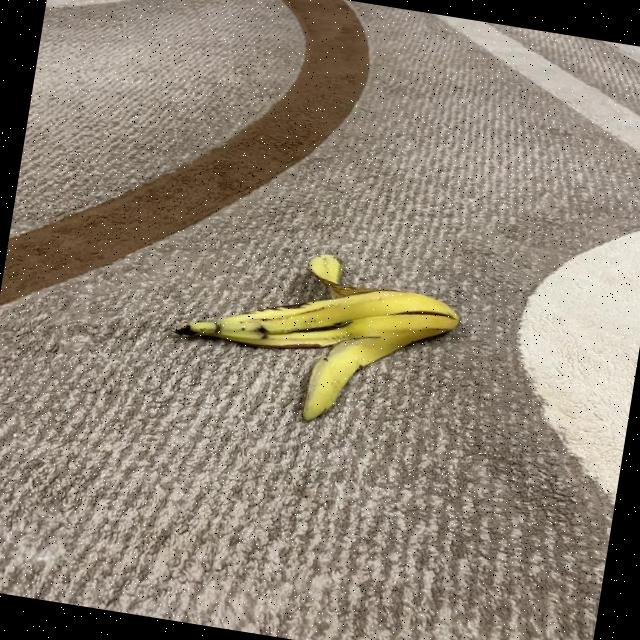banana-peel: (162, 232, 467, 442)
